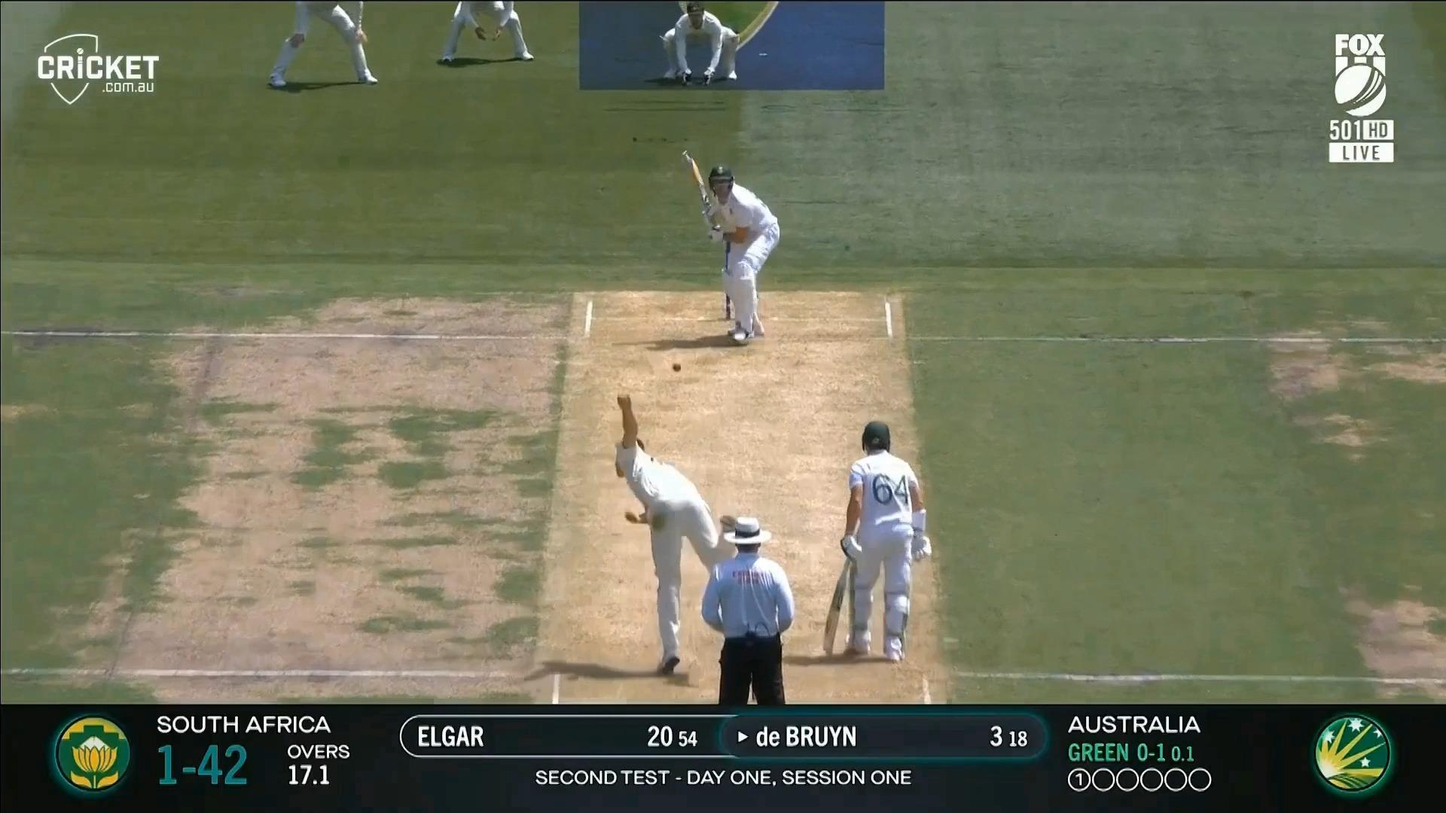BM 1: (680, 149, 780, 345)
BO: (611, 388, 752, 681)
